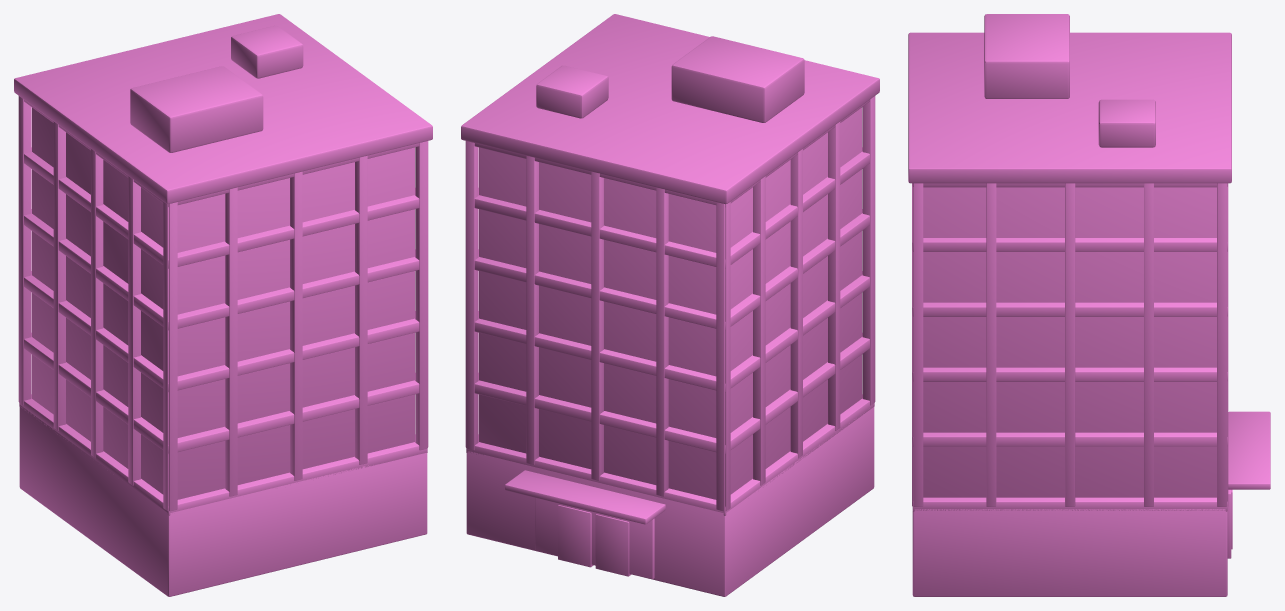
Rendered from Downtown_OfficeShort.fbx.
3 renders of one model, left to right at view 1: azimuth 30°, elevation 25°; view 2: azimuth 150°, elevation 25°; view 3: azimuth 270°, elevation 25°, orthographic. The views are drawn at different scales.
Parts seen in each view (by area): view 1: Body, Paint; view 2: Body, Paint; view 3: Body, Paint.
Boxes of the visible parts, <box> form: Body: <box>14,14,432,499</box>; Paint: <box>18,96,428,596</box>; Body: <box>461,14,879,579</box>; Paint: <box>465,96,875,596</box>; Body: <box>908,14,1270,558</box>; Paint: <box>912,183,1228,596</box>.
Size of the model in its own units: 22.6 by 36.2 by 25.3.
1 material, 1 textured.
